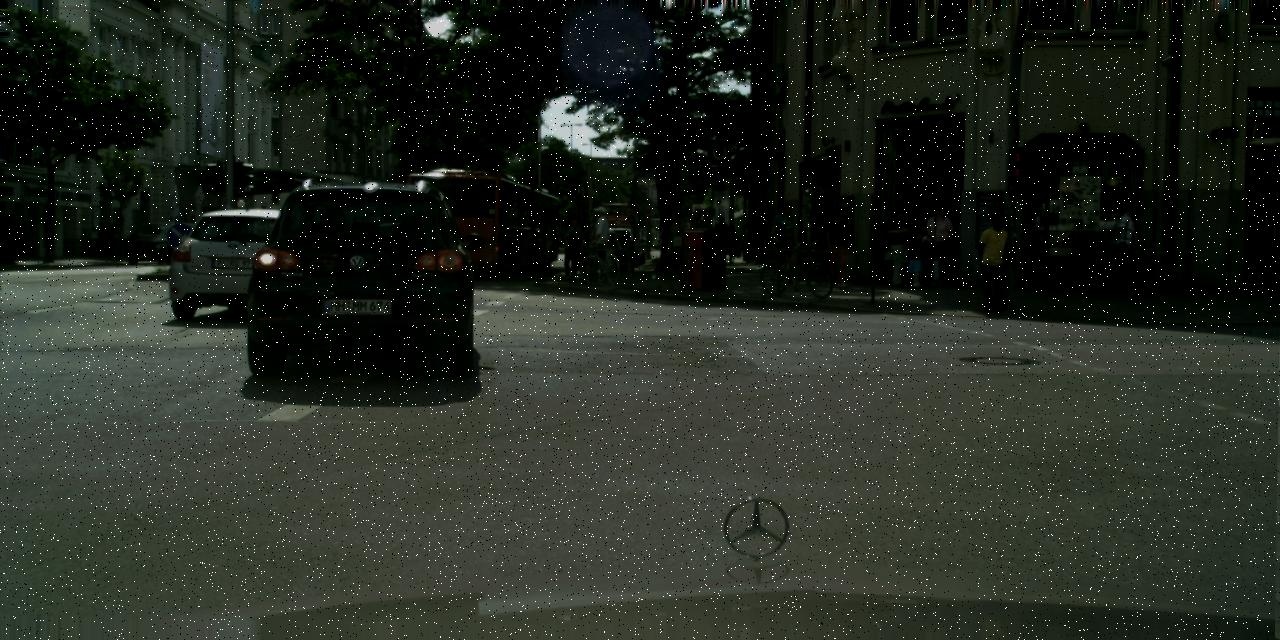ped: (976, 215, 1015, 313), (1100, 204, 1140, 298), (1104, 204, 1142, 296), (921, 204, 955, 287), (884, 208, 917, 287), (770, 202, 801, 279), (823, 208, 854, 285), (584, 206, 614, 280), (684, 208, 710, 273), (559, 216, 585, 281), (573, 220, 598, 282), (663, 212, 687, 272), (905, 228, 929, 288), (0, 214, 19, 266), (711, 216, 731, 263), (724, 226, 739, 262), (106, 223, 120, 259), (96, 221, 110, 256)
